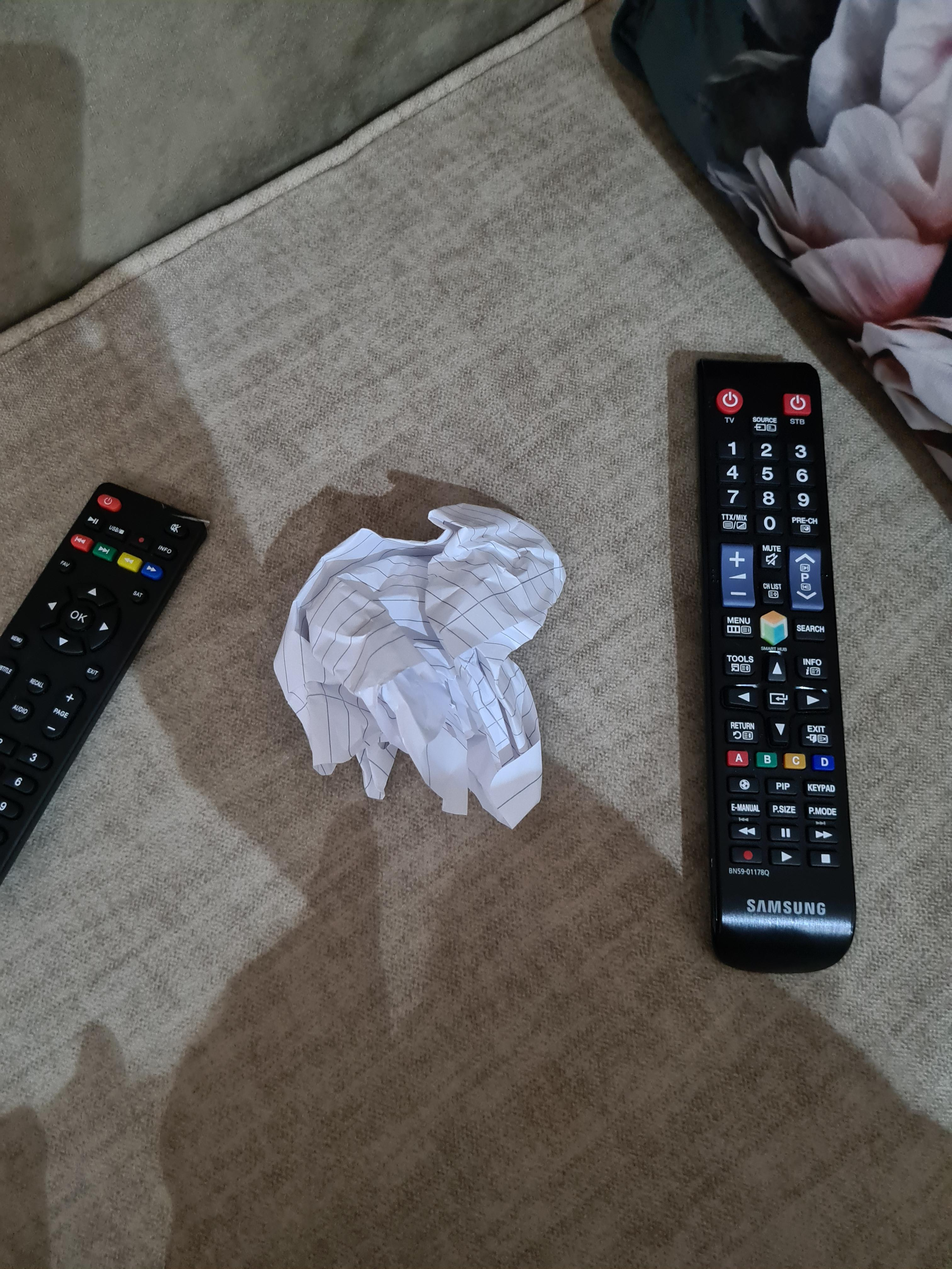paper: (281, 504, 568, 829)
